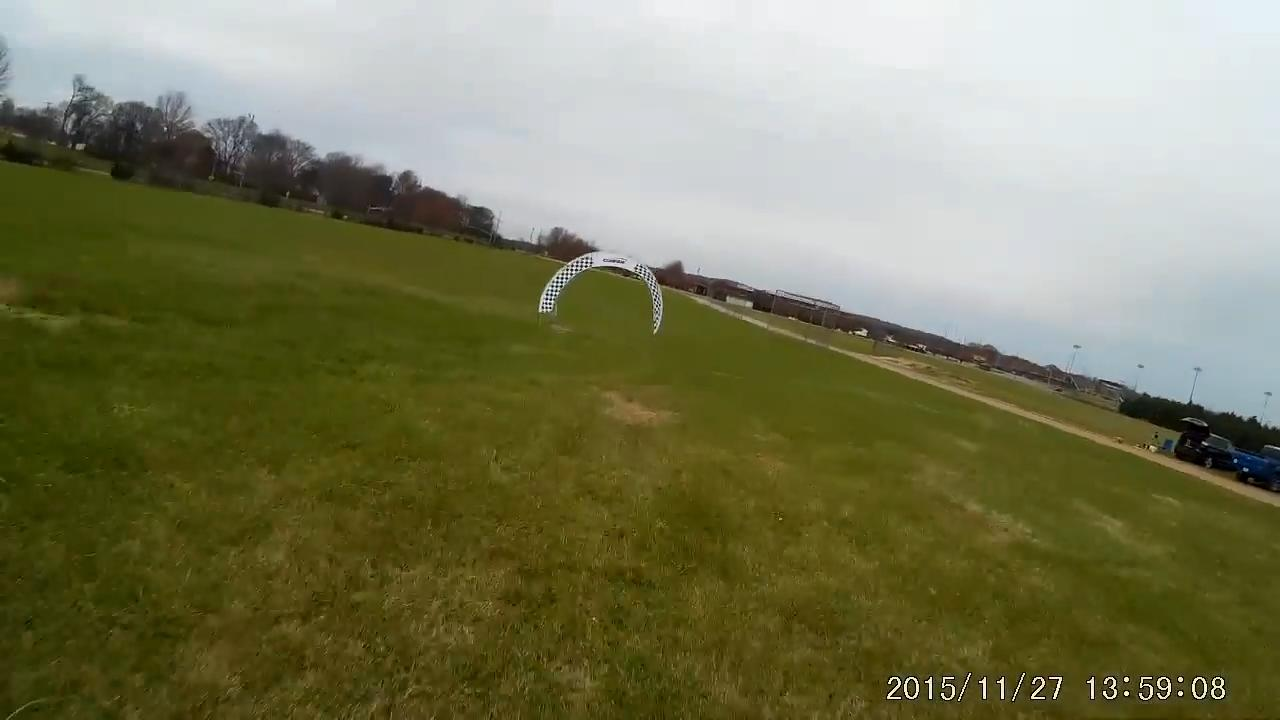gate: (536, 248, 665, 340)
